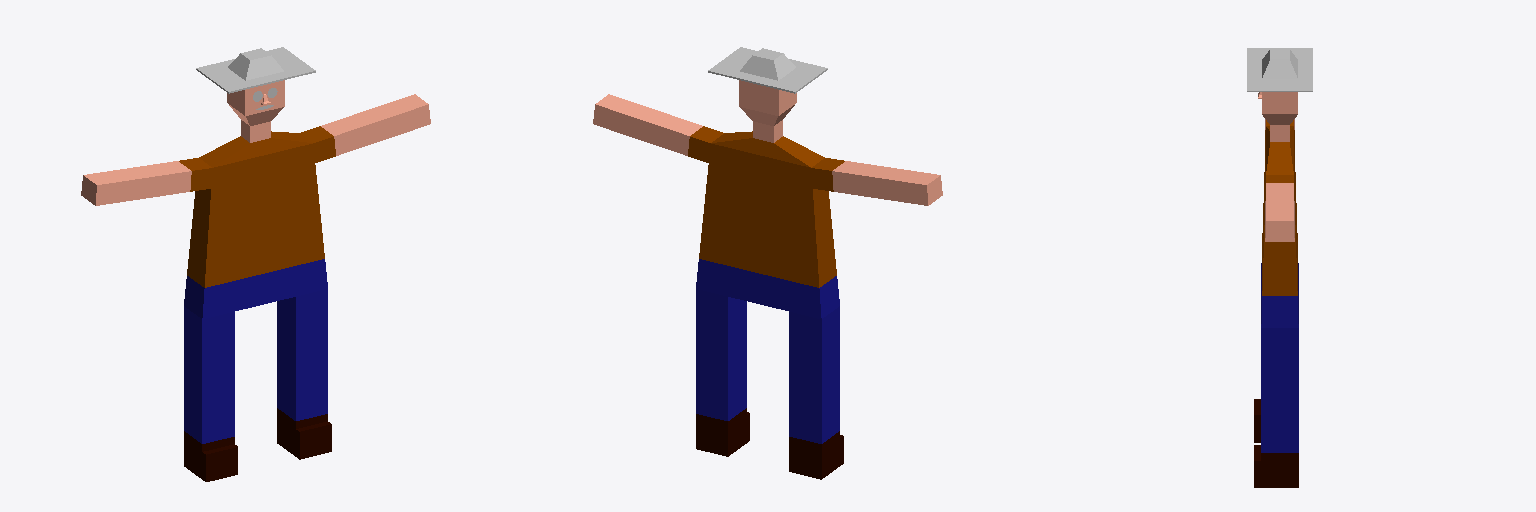
The model's file is hombre.obj.
3 renders of one model, left to right at view 1: azimuth 30°, elevation 25°; view 2: azimuth 150°, elevation 25°; view 3: azimuth 270°, elevation 25°, orthographic.
Visible parts, largest first — view 1: Mesh2 Torso1 Model, Mesh1 leg1 Model, Mesh3 leg2 Model, Mesh11 arm2 Model, Mesh10 arm1 Model, Mesh6 hat1 Model, Mesh7 head1 Model; view 2: Mesh2 Torso1 Model, Mesh1 leg1 Model, Mesh3 leg2 Model, Mesh11 arm2 Model, Mesh10 arm1 Model, Mesh6 hat1 Model, Mesh7 head1 Model; view 3: Mesh3 leg2 Model, Mesh2 Torso1 Model, Mesh6 hat1 Model, Mesh10 arm1 Model, Mesh7 head1 Model.
Boxes of the visible parts, x1,y1,x2,y2 form: Mesh2 Torso1 Model: [184, 120, 327, 318]; Mesh1 leg1 Model: [184, 306, 237, 481]; Mesh3 leg2 Model: [277, 289, 331, 459]; Mesh11 arm2 Model: [81, 158, 212, 205]; Mesh10 arm1 Model: [300, 94, 430, 162]; Mesh6 hat1 Model: [196, 47, 315, 93]; Mesh7 head1 Model: [227, 80, 284, 125]; Mesh2 Torso1 Model: [696, 120, 839, 318]; Mesh1 leg1 Model: [789, 306, 843, 479]; Mesh3 leg2 Model: [696, 289, 749, 456]; Mesh11 arm2 Model: [811, 158, 942, 205]; Mesh10 arm1 Model: [593, 94, 723, 162]; Mesh6 hat1 Model: [708, 47, 827, 93]; Mesh7 head1 Model: [739, 80, 796, 125]; Mesh3 leg2 Model: [1254, 328, 1298, 487]; Mesh2 Torso1 Model: [1261, 125, 1298, 327]; Mesh6 hat1 Model: [1247, 48, 1312, 91]; Mesh10 arm1 Model: [1265, 175, 1294, 241]; Mesh7 head1 Model: [1262, 92, 1297, 124].
Size of the model in its own units: 2.08 by 2.39 by 0.3496.